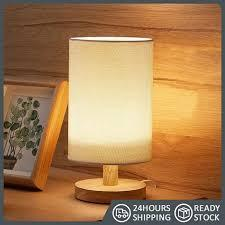Lamp: (62, 28, 157, 208)
